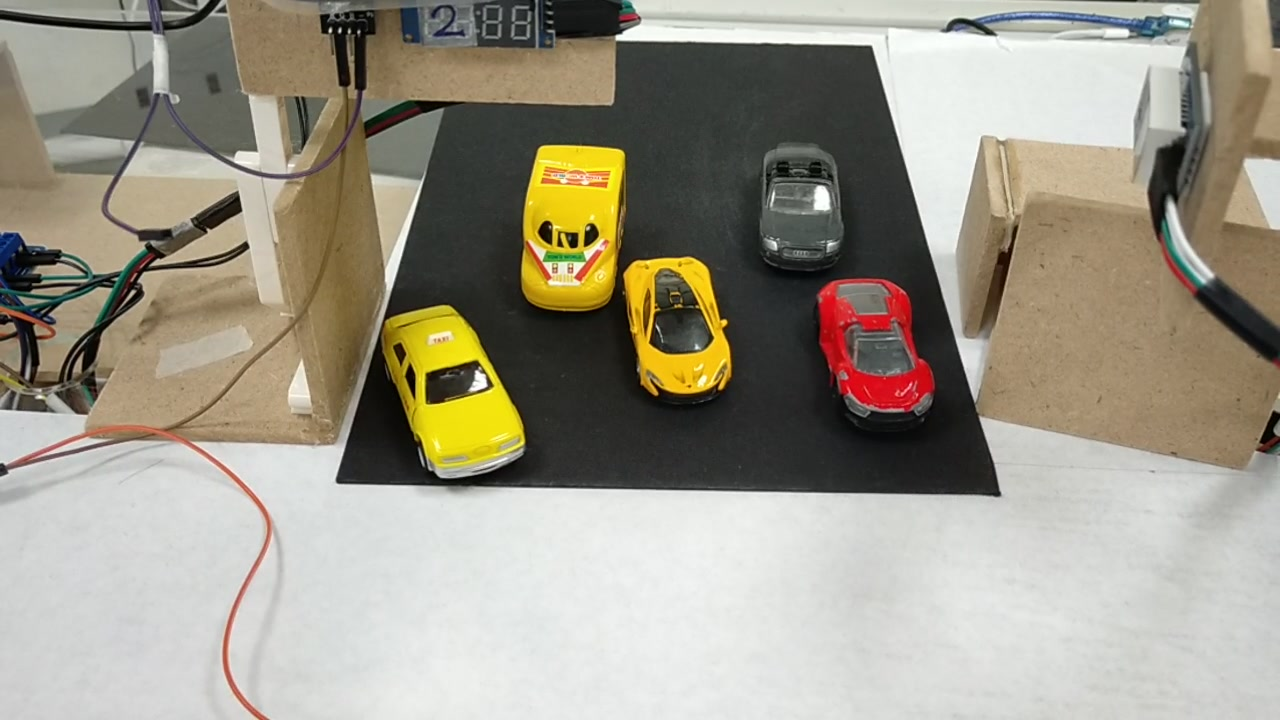car: (375, 316, 526, 480), (817, 271, 930, 429), (621, 261, 737, 406), (751, 142, 848, 275)
